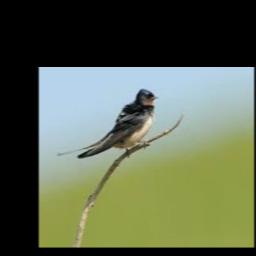Swallow: (57, 89, 157, 159)
